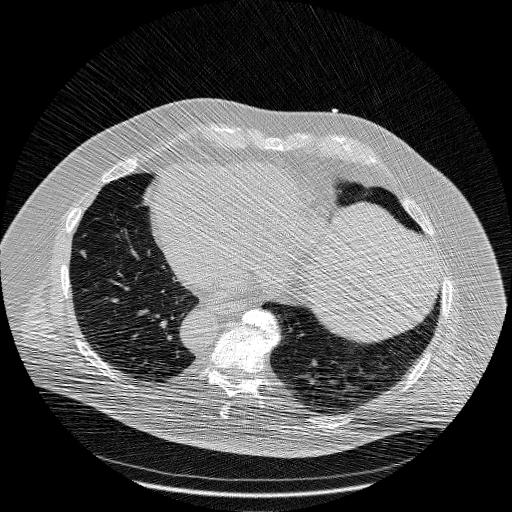nodule: (80, 249, 91, 260)
